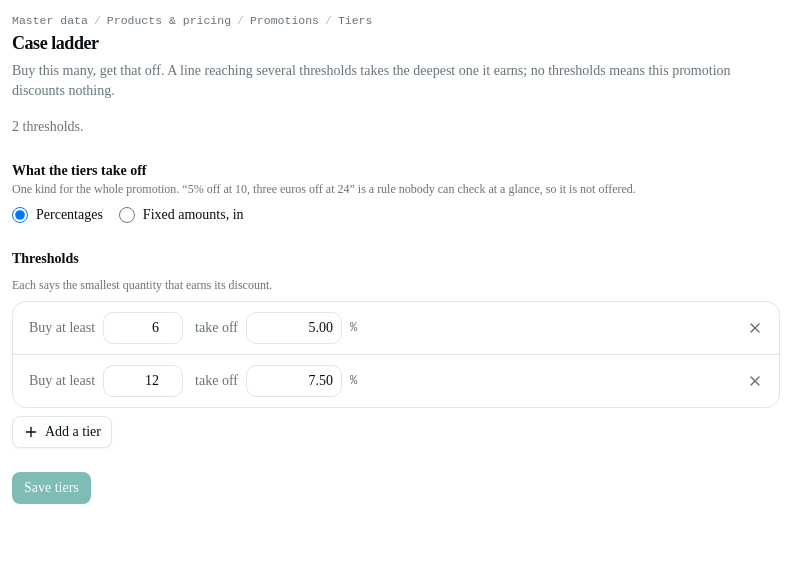
Test: <PromotionTiers> › asks for the kind once, not once per row
expect the button "Save tiers" is shown: met, box [12,472,91,504]
Click the radio button labelled "Fixed amounts, in" at [127, 215], box [119,207,135,223]
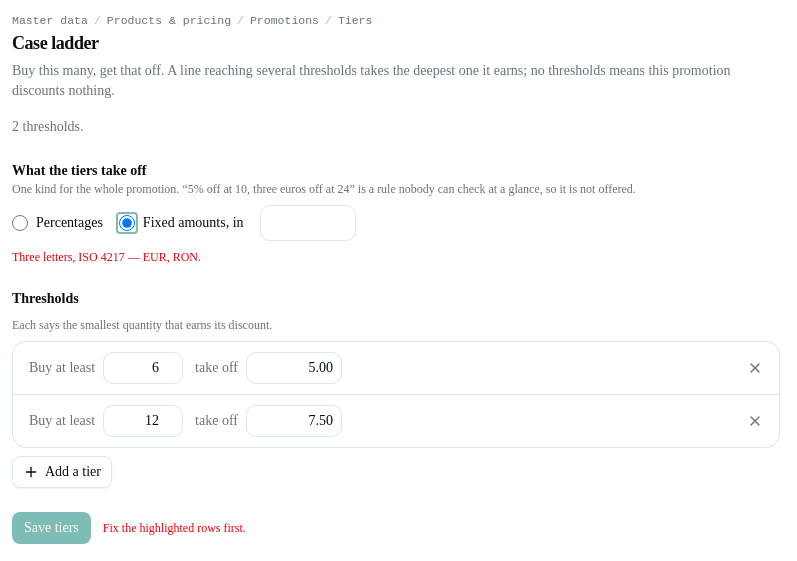
expect the field named "Currency" is shown: met, box [260,205,356,241]
